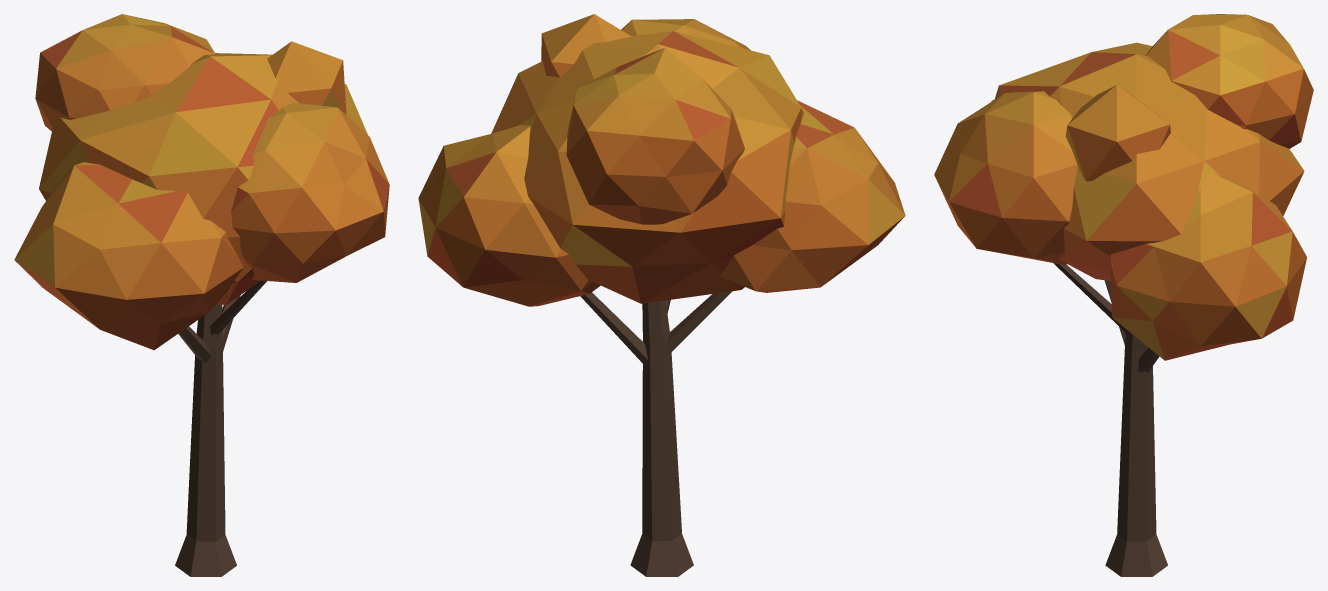
The model's file is tree_maple_orange.glb.
3 views of the same model, side by side, from view 1: azimuth 30°, elevation 25°; view 2: azimuth 150°, elevation 25°; view 3: azimuth 270°, elevation 25° (orthographic). The views are drawn at different scales.
Parts seen in each view (by area): view 1: tree_maple_orange; view 2: tree_maple_orange; view 3: tree_maple_orange.
Part boxes in pixels (left/top/right/bottom): tree_maple_orange: left=14, top=14, right=389, bottom=576; tree_maple_orange: left=418, top=14, right=905, bottom=576; tree_maple_orange: left=934, top=14, right=1313, bottom=576.
Size of the model in its own units: 4.58 by 5.91 by 3.86.
